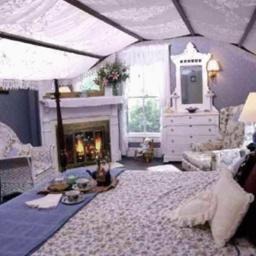Armario: (165, 50, 220, 131)
Cama: (4, 166, 229, 254)
Ventana: (125, 52, 160, 138)
